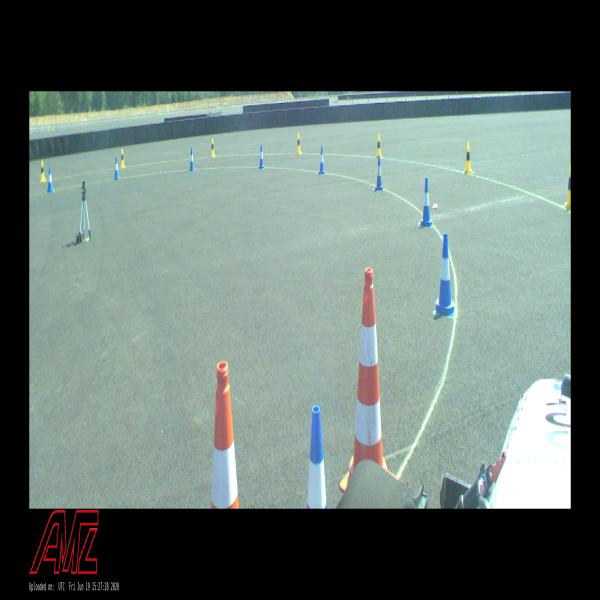blue_cone: (307, 406, 328, 509), (436, 232, 455, 318), (421, 177, 432, 227), (375, 157, 384, 191), (46, 167, 54, 192), (318, 147, 325, 174), (189, 147, 195, 171), (114, 158, 120, 179), (259, 145, 264, 168)
large_orange_cone: (340, 269, 396, 493), (211, 360, 240, 508)
yellow_cone: (564, 164, 571, 209), (465, 142, 472, 174), (376, 134, 382, 158), (40, 160, 46, 182), (296, 133, 301, 154), (210, 138, 215, 157), (121, 148, 125, 168)
